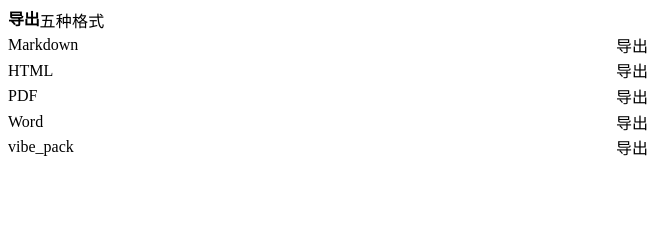
导出屏 › 后端没给清单时如实说，NEVER 显示一个空列表
Click the button "导出" in the row of "PDF": (632, 96) [616,84,648,108]
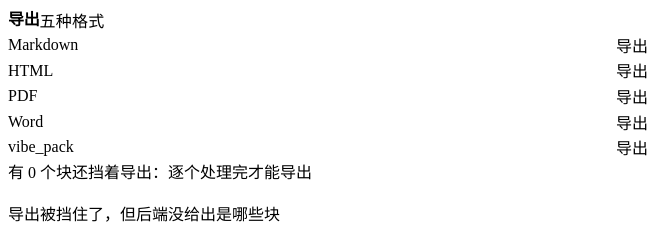
Expected: the text "导出被挡住了，但后端没给出是哪些块" is shown, [8,206,280,223]
